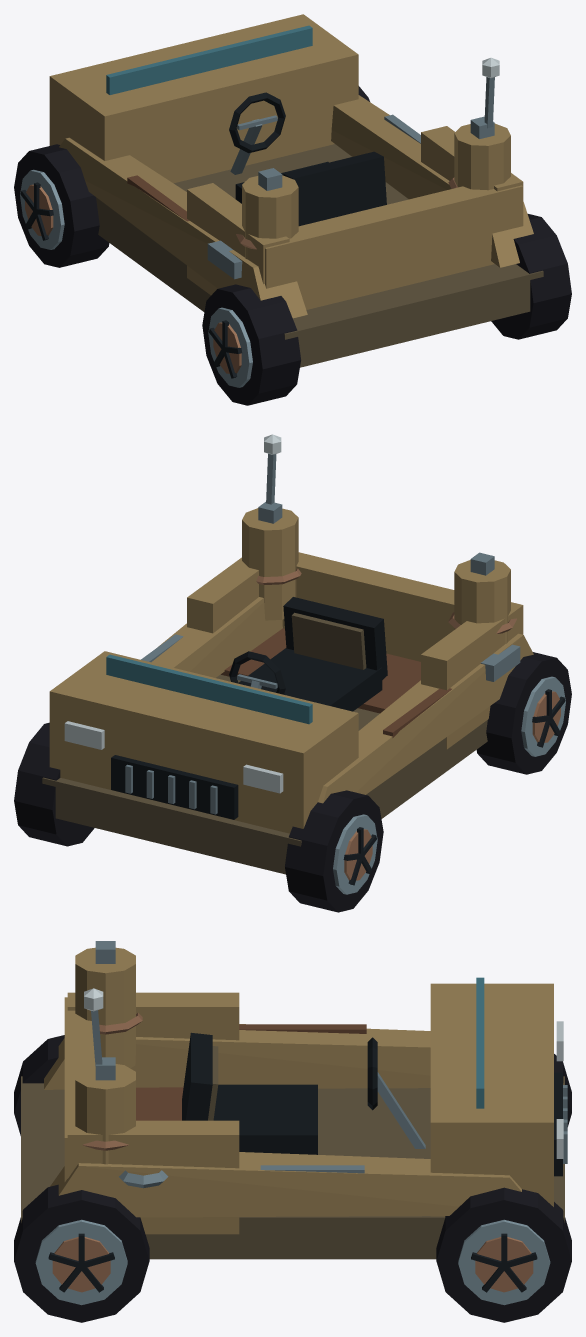
The model's file is kart.glb.
3 renders of one model, top to bottom at view 1: azimuth 30°, elevation 25°; view 2: azimuth 150°, elevation 25°; view 3: azimuth 270°, elevation 25°, orthographic. The views are drawn at different scales.
Visible parts, largest first — view 1: identity-truck-truck-utility-body, wheel-rear-left, wheel-front-left, identity-truck-motif-tanks, identity-truck-driver-cockpit, wheel-rear-right, identity-truck-motif-tools, identity-truck-motif-antenna; view 2: identity-truck-truck-utility-body, identity-truck-driver-cockpit, wheel-front-left, identity-truck-motif-tanks, wheel-rear-left, wheel-front-right, identity-truck-motif-tools, identity-truck-motif-antenna; view 3: identity-truck-truck-utility-body, wheel-front-right, wheel-rear-right, identity-truck-driver-cockpit, identity-truck-motif-tanks, identity-truck-motif-tools, wheel-rear-left, identity-truck-motif-antenna.
Part boxes in pixels (left/top/right/bottom): identity-truck-truck-utility-body: left=49, top=14, right=543, bottom=367; wheel-rear-left: left=202, top=284, right=300, bottom=405; wheel-front-left: left=14, top=144, right=109, bottom=267; identity-truck-motif-tanks: left=236, top=116, right=510, bottom=259; identity-truck-driver-cockpit: left=229, top=92, right=386, bottom=226; wheel-rear-right: left=491, top=214, right=571, bottom=339; identity-truck-motif-tools: left=127, top=114, right=420, bottom=279; identity-truck-motif-antenna: left=482, top=57, right=499, bottom=128; identity-truck-truck-utility-body: left=42, top=552, right=533, bottom=874; identity-truck-driver-cockpit: left=229, top=597, right=387, bottom=711; wheel-front-left: left=285, top=790, right=383, bottom=912; identity-truck-motif-tanks: left=242, top=502, right=516, bottom=643; wheel-rear-left: left=476, top=652, right=571, bottom=774; wheel-front-right: left=14, top=722, right=94, bottom=846; identity-truck-motif-tools: left=141, top=634, right=520, bottom=737; identity-truck-motif-antenna: left=264, top=434, right=281, bottom=504; identity-truck-truck-utility-body: left=21, top=977, right=567, bottom=1259; wheel-front-right: left=436, top=1187, right=571, bottom=1322; wheel-rear-right: left=14, top=1184, right=149, bottom=1322; identity-truck-driver-cockpit: left=182, top=1032, right=425, bottom=1154; identity-truck-motif-tanks: left=75, top=941, right=142, bottom=1164; identity-truck-motif-tools: left=119, top=1024, right=366, bottom=1188; wheel-rear-left: left=14, top=1035, right=64, bottom=1135; identity-truck-motif-antenna: left=84, top=988, right=103, bottom=1065.
Size of the model in its own units: 2.13 by 1.72 by 2.8.
